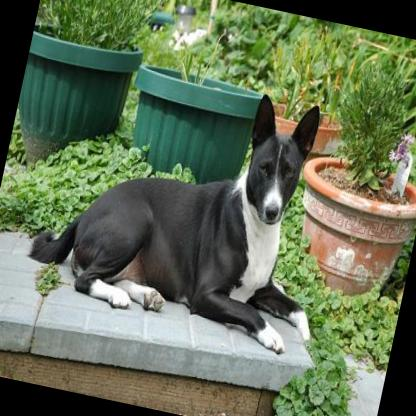basenji: (12, 45, 360, 376)
